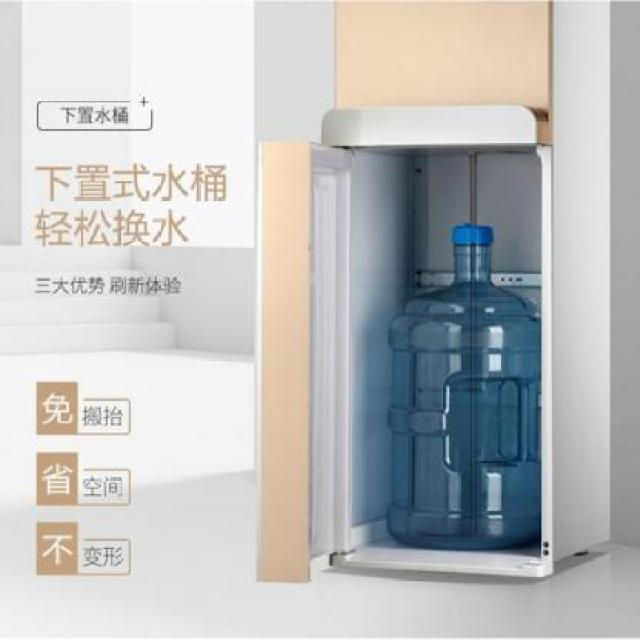coolerbottle: (383, 216, 542, 556)
